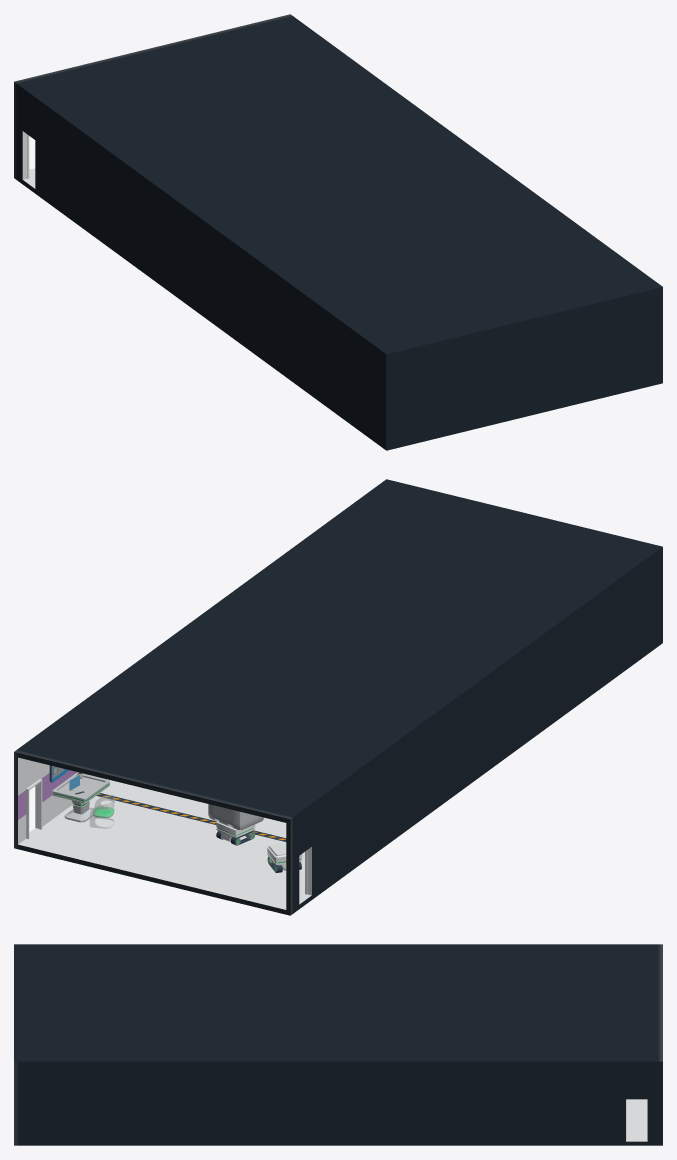
The model's file is Room_storage_003.fbx.
The picture shows the model from 3 angles, top to bottom: view 1: azimuth 30°, elevation 25°; view 2: azimuth 150°, elevation 25°; view 3: azimuth 270°, elevation 25°; orthographic projection. The views are drawn at different scales.
Visible parts, largest first — view 1: Room_large_001.019; view 2: Room_large_001.019; view 3: Room_large_001.019.
Boxes of the visible parts, x1=… form: Room_large_001.019: x1=14, y1=14, x2=662, y2=450; Room_large_001.019: x1=14, y1=479, x2=662, y2=915; Room_large_001.019: x1=14, y1=944, x2=662, y2=1145.
Size of the model in its own units: 1200 by 400 by 2800.
